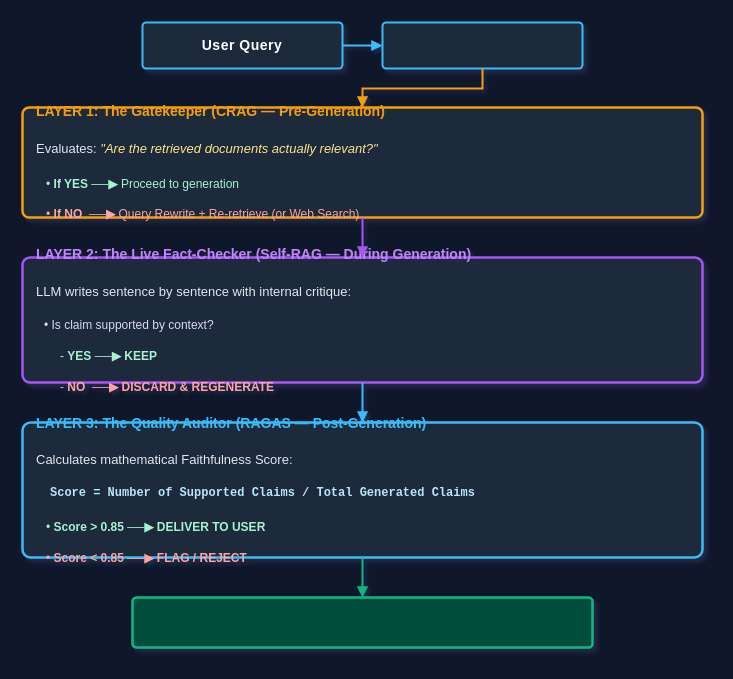
Some shapes in this 733 by 679 pixel diagram are drawn without their labels. The centre of each missing label's shape, as x and y in pixels:
GROUNDED ANSWER + CITATIONS: point 363,623
Retriever (Top-K Context Chunks): point 483,46
